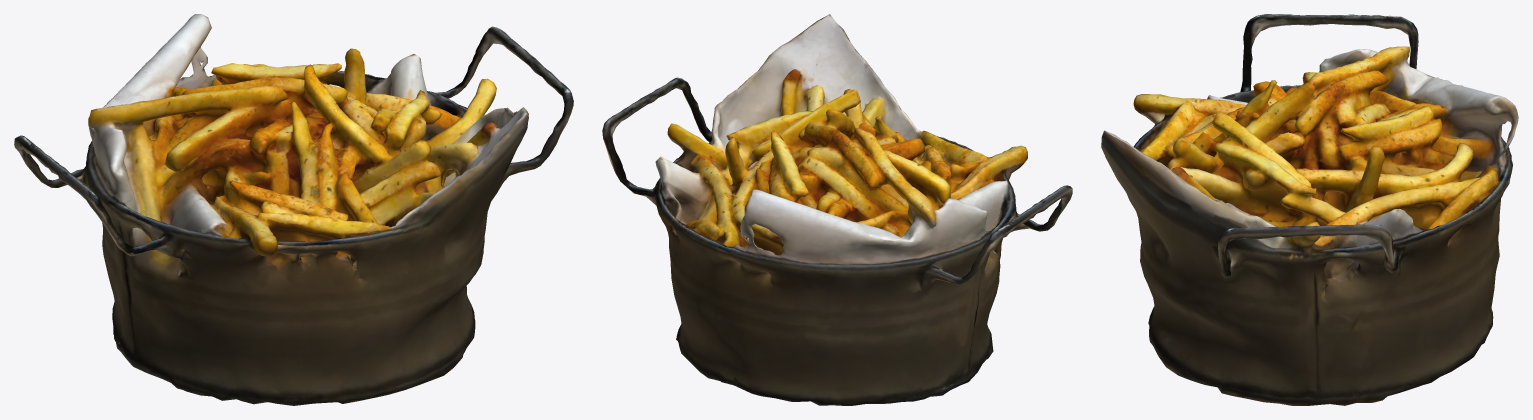
Rendered from baharatli.glb.
The picture shows the model from 3 angles, left to right: view 1: azimuth 30°, elevation 25°; view 2: azimuth 150°, elevation 25°; view 3: azimuth 270°, elevation 25°; orthographic projection. The views are drawn at different scales.
Parts seen in each view (by area): view 1: Mesh_0.009; view 2: Mesh_0.009; view 3: Mesh_0.009.
Boxes of the visible parts, <box> form: Mesh_0.009: <box>14,14,573,405</box>; Mesh_0.009: <box>602,14,1072,405</box>; Mesh_0.009: <box>1101,14,1518,405</box>.
Bounding box in the file's own units: 0.2019 × 0.1126 × 0.1615.
Materials: 1 (1 with a texture image).
